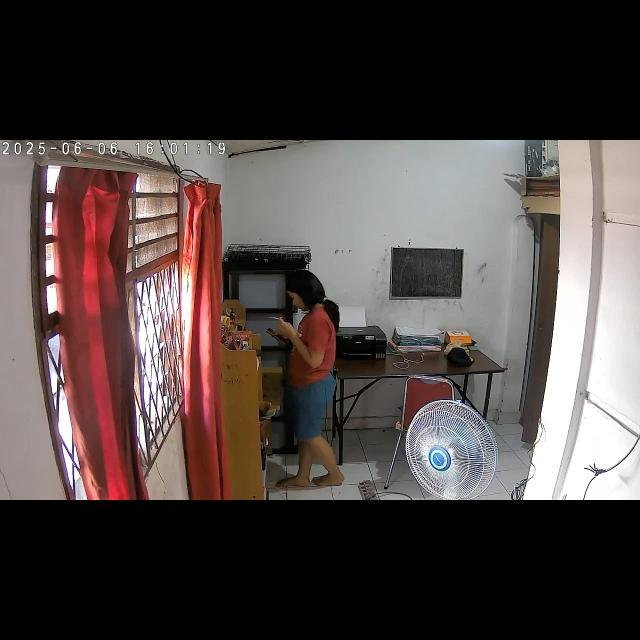rokok: (266, 314, 282, 322)
